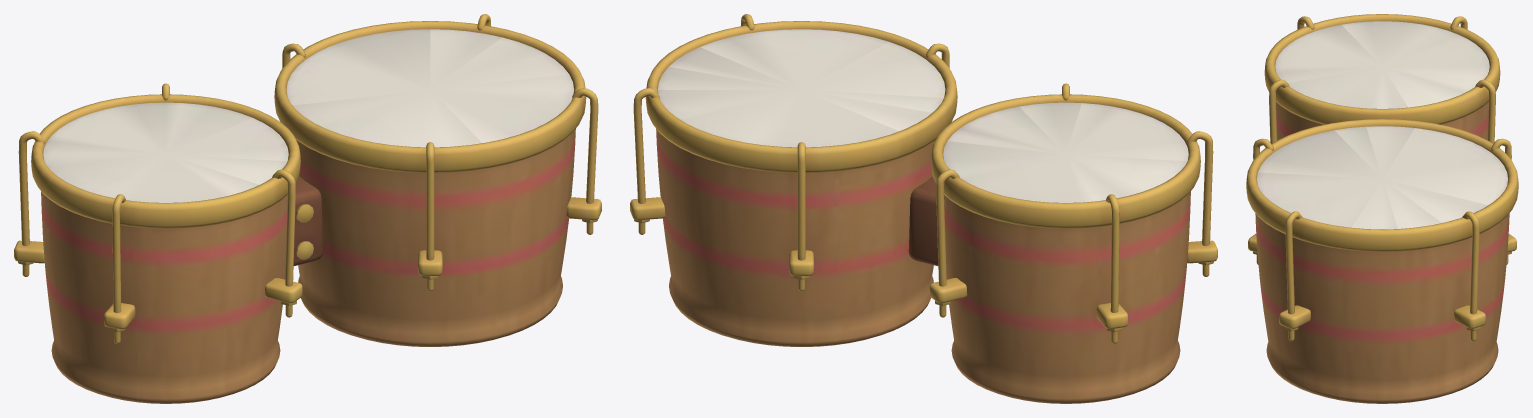
The model's file is bongo-drums.glb.
The picture shows the model from 3 angles, left to right: view 1: azimuth 30°, elevation 25°; view 2: azimuth 150°, elevation 25°; view 3: azimuth 270°, elevation 25°; orthographic projection. The views are drawn at different scales.
Visible parts, largest first — view 1: bongo-drums_body; view 2: bongo-drums_body; view 3: bongo-drums_body.
Boxes of the visible parts, x1,y1,x2,y2 form: bongo-drums_body: [14, 14, 601, 403]; bongo-drums_body: [630, 14, 1217, 403]; bongo-drums_body: [1246, 14, 1518, 403].
Size of the model in its own units: 0.4388 by 0.1779 by 0.2296.
Materials: 1 (1 with a texture image).
